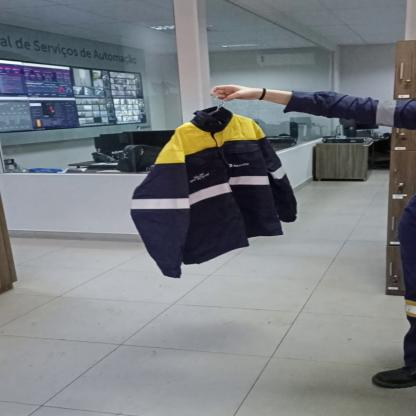C_eletrica: (127, 112, 311, 279)
